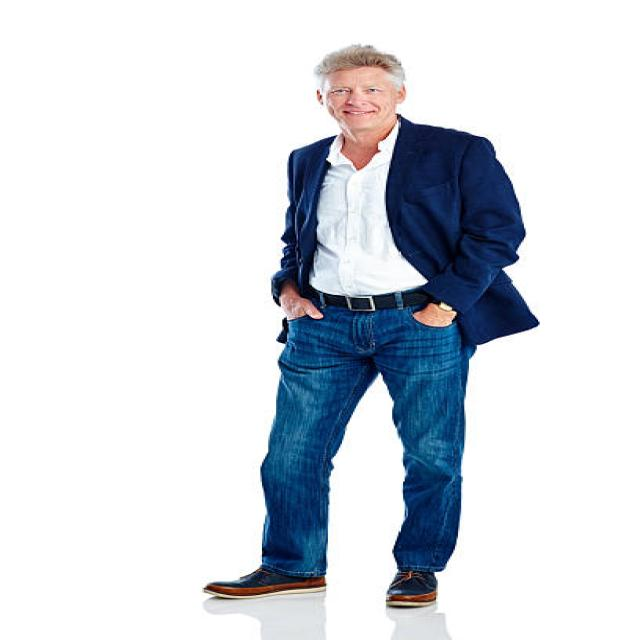Edited images: (195, 34, 544, 616)
